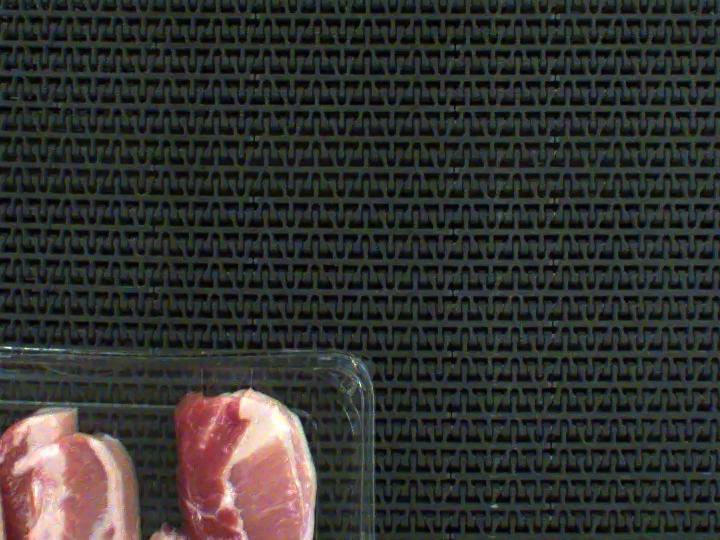loose-meat: (158, 387, 296, 540)
